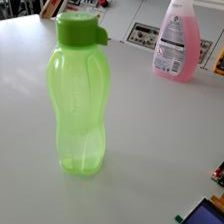bottle: (46, 10, 114, 182)
